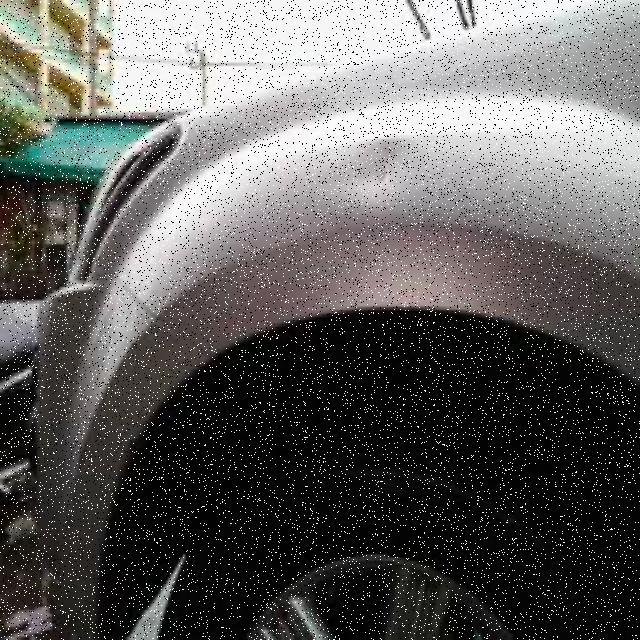fender-dent: (106, 119, 638, 482)
